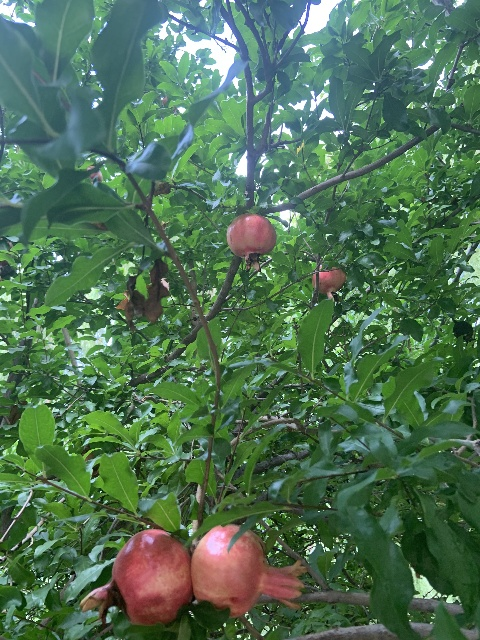ripe: (79, 529, 192, 626), (191, 523, 305, 617), (226, 212, 276, 272), (311, 265, 346, 301)
